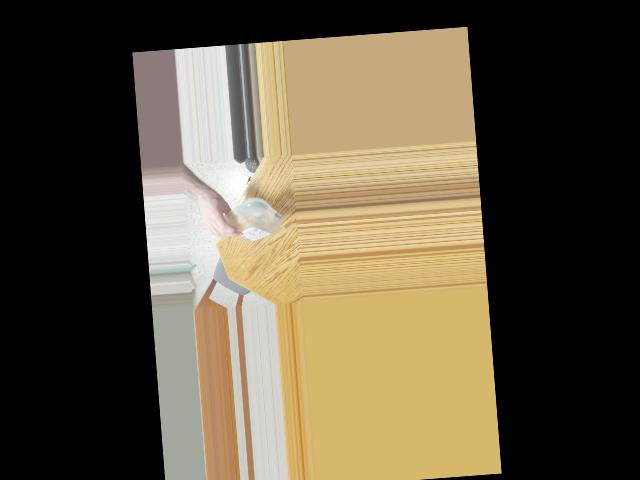cheese: (214, 201, 280, 242)
